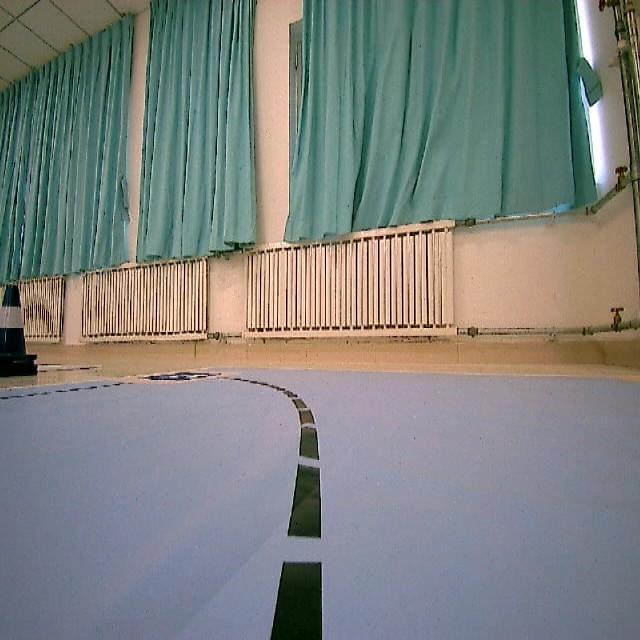obstacle: (0, 288, 42, 383)
